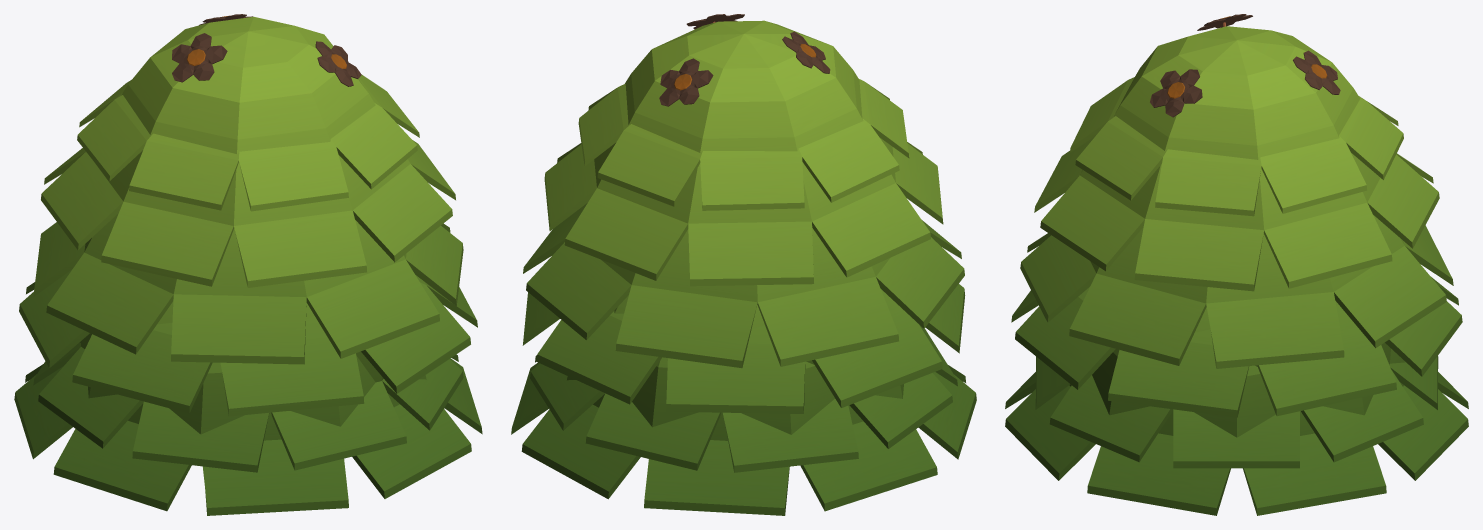
Rendered from arbusto1.fbx.
The picture shows the model from 3 angles, left to right: view 1: azimuth 30°, elevation 25°; view 2: azimuth 150°, elevation 25°; view 3: azimuth 270°, elevation 25°; orthographic projection. The views are drawn at different scales.
Parts seen in each view (by area): view 1: arbusto23; view 2: arbusto23; view 3: arbusto23.
Part boxes in pixels (left/top/right/bottom): arbusto23: left=14, top=14, right=482, bottom=515; arbusto23: left=511, top=14, right=976, bottom=515; arbusto23: left=1005, top=14, right=1468, bottom=515.
Bounding box in the file's own units: 325 × 298 × 325.
